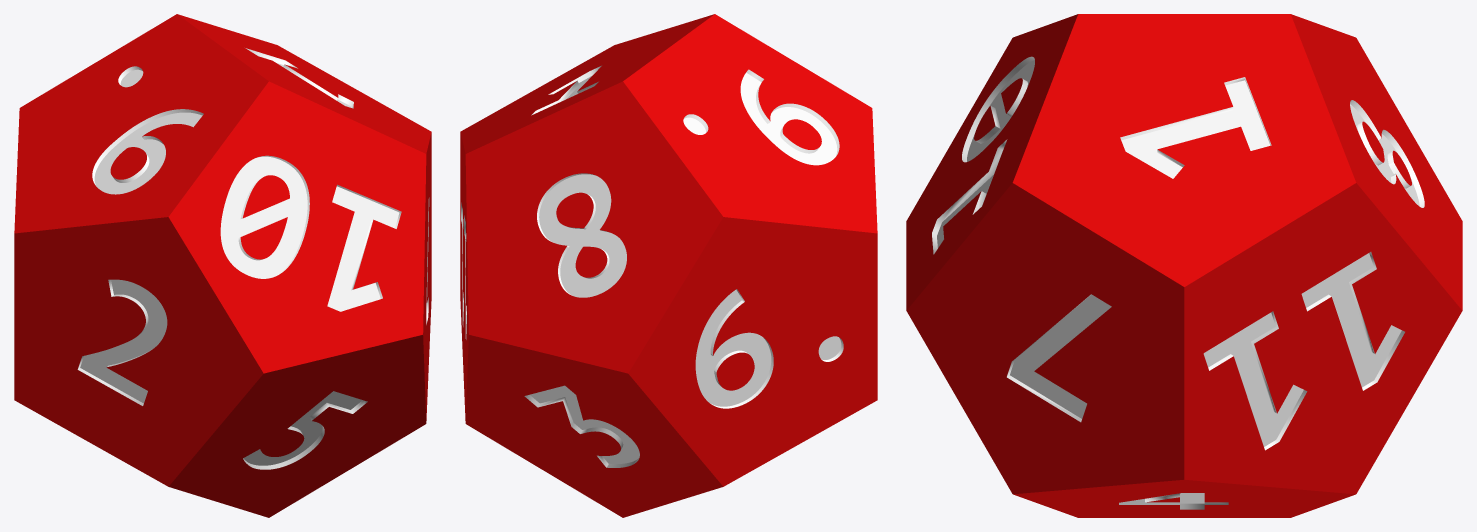
The picture shows the model from 3 angles, left to right: view 1: azimuth 30°, elevation 25°; view 2: azimuth 150°, elevation 25°; view 3: azimuth 270°, elevation 25°; orthographic projection. The views are drawn at different scales.
Visible parts, largest first — view 1: d12.001; view 2: d12.001; view 3: d12.001.
Part boxes in pixels (x1,y1,x2,y2): d12.001: (14,14,431,517); d12.001: (460,14,877,517); d12.001: (906,14,1462,517).
Size of the model in its own units: 1.87 by 1.87 by 1.87.
